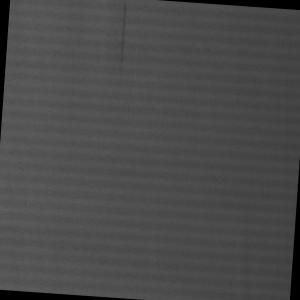Stain: (115, 1, 133, 73)
Wrinkle: (225, 192, 269, 300)
